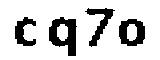7: (84, 4, 114, 48)
c: (10, 15, 39, 48)
o: (116, 17, 147, 53)
q: (46, 14, 80, 60)
